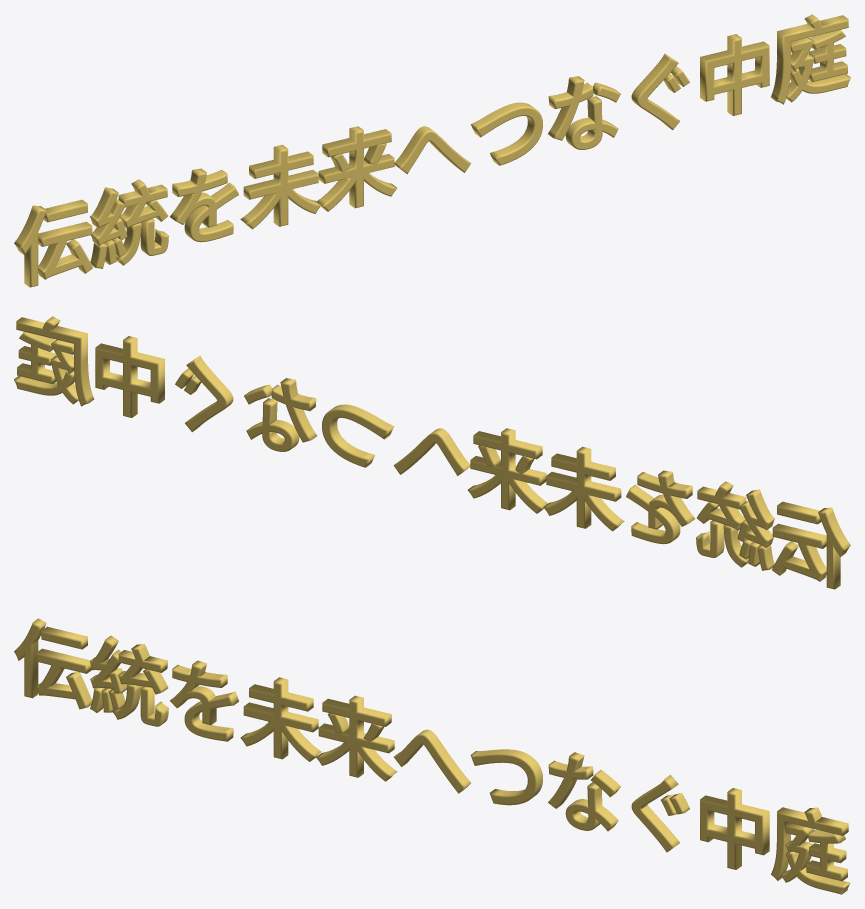
The model's file is QTitle.glb.
3 views of the same model, one above another, from view 1: azimuth 30°, elevation 25°; view 2: azimuth 150°, elevation 25°; view 3: azimuth 330°, elevation 25° (orthographic).
Parts seen in each view (by area): view 1: テキスト; view 2: テキスト; view 3: テキスト.
Boxes of the visible parts, left/top/right/bottom form: テキスト: left=14, top=14, right=850, bottom=287; テキスト: left=14, top=316, right=850, bottom=589; テキスト: left=14, top=618, right=850, bottom=894.
Size of the model in its own units: 10.99 by 0.9852 by 0.16.
